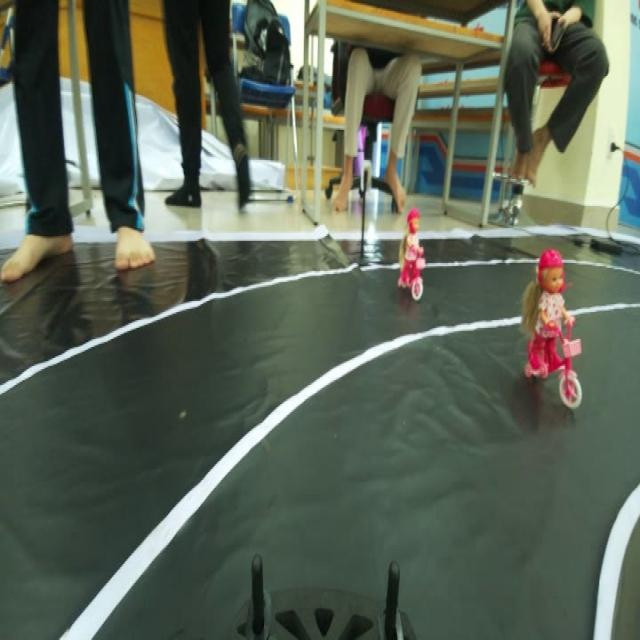pedestrian: (517, 234, 583, 416), (398, 206, 433, 306), (500, 317, 520, 328)
